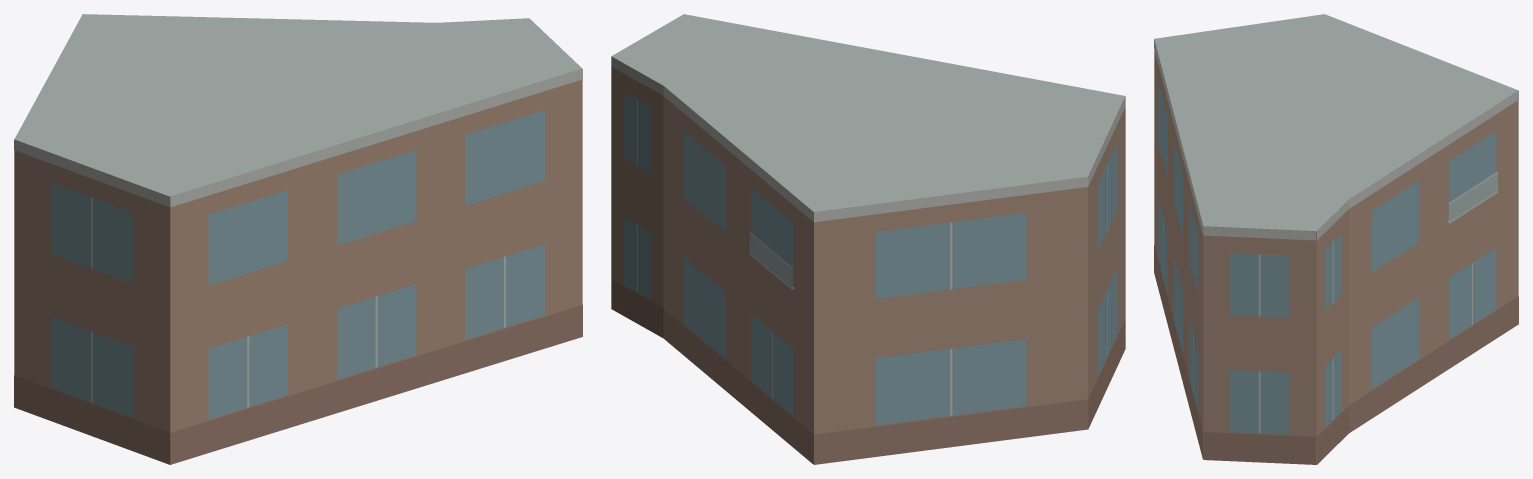
File: survey-upis-32939546.glb
3 views of the same model, side by side, from view 1: azimuth 30°, elevation 25°; view 2: azimuth 150°, elevation 25°; view 3: azimuth 270°, elevation 25° (orthographic). The views are drawn at different scales.
Parts seen in each view (by area): view 1: survey-upis-32939546.tmp; view 2: survey-upis-32939546.tmp; view 3: survey-upis-32939546.tmp.
Part boxes in pixels (<box>): survey-upis-32939546.tmp: <box>14,14,582,464</box>; survey-upis-32939546.tmp: <box>611,14,1125,464</box>; survey-upis-32939546.tmp: <box>1154,14,1518,464</box>.
Bounding box in the file's own units: 12.17 × 6.1 × 8.64.
